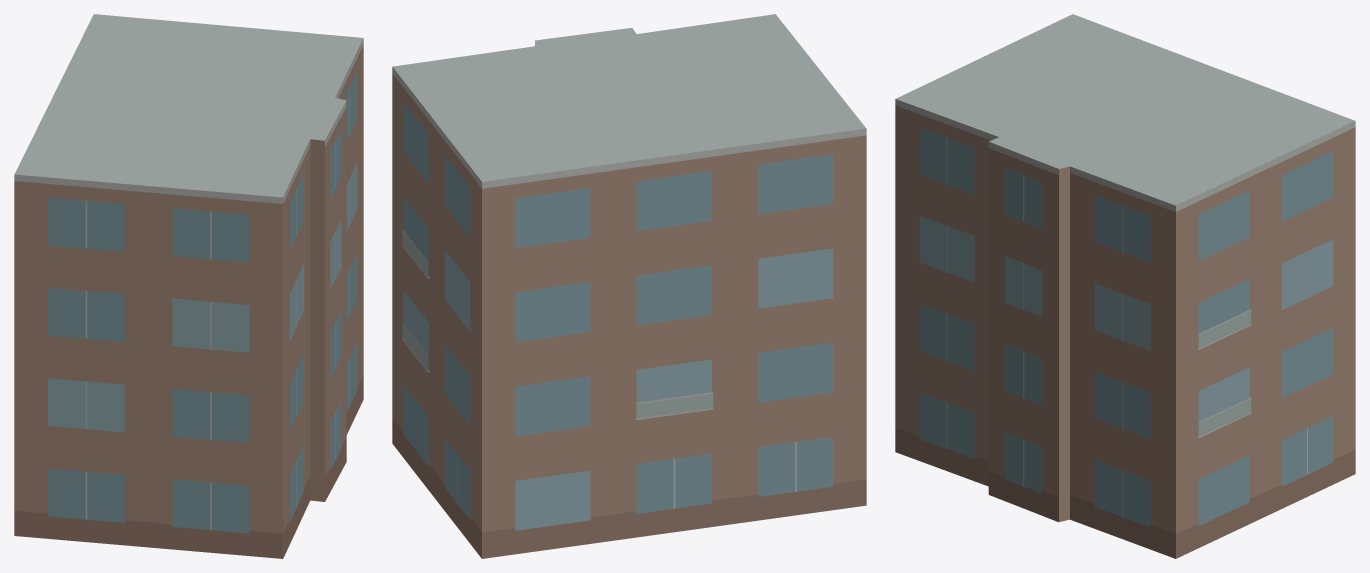
File: survey-upis-32619254.glb
The picture shows the model from 3 angles, left to right: view 1: azimuth 30°, elevation 25°; view 2: azimuth 150°, elevation 25°; view 3: azimuth 270°, elevation 25°; orthographic projection. The views are drawn at different scales.
Parts seen in each view (by area): view 1: survey-upis-32619254.tmp; view 2: survey-upis-32619254.tmp; view 3: survey-upis-32619254.tmp.
Boxes of the visible parts, x1=… form: survey-upis-32619254.tmp: x1=14, y1=14, x2=363, y2=558; survey-upis-32619254.tmp: x1=392, y1=14, x2=866, y2=558; survey-upis-32619254.tmp: x1=895, y1=14, x2=1355, y2=558.
Size of the model in its own units: 15.84 by 13.6 by 16.07.
